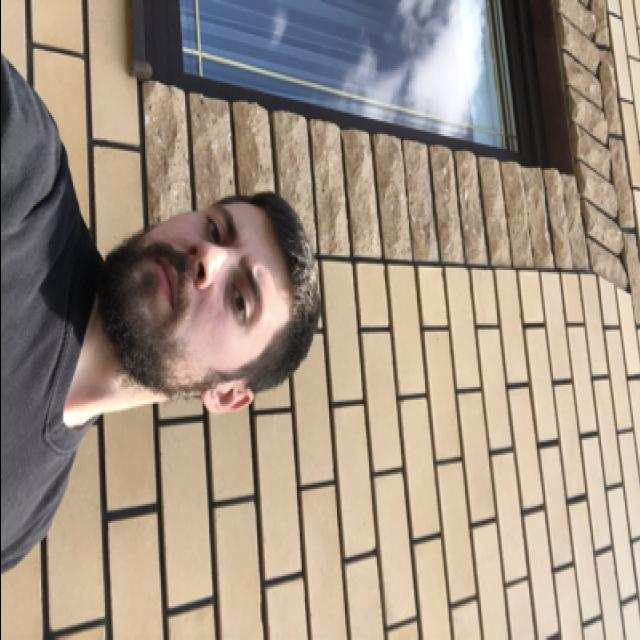no_mask: (96, 202, 269, 394)
